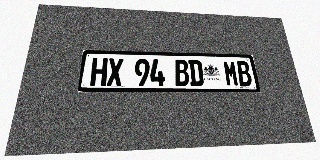4: (150, 59, 165, 86)
9: (135, 59, 150, 86)
B: (174, 59, 190, 86), (236, 61, 253, 86)
D: (188, 60, 204, 86)
H: (90, 58, 108, 86)
M: (223, 61, 239, 86)
X: (106, 58, 123, 86)
